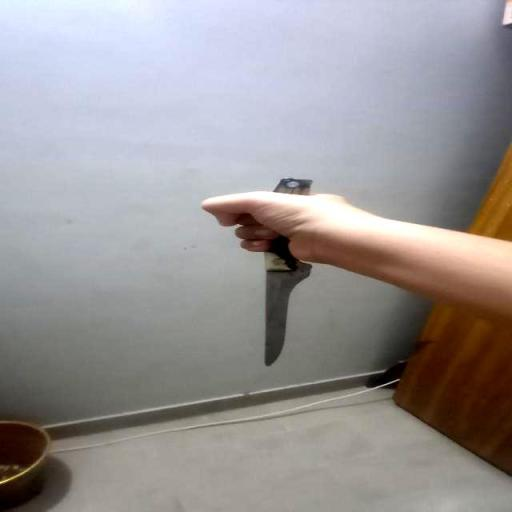knife: (216, 154, 322, 376)
